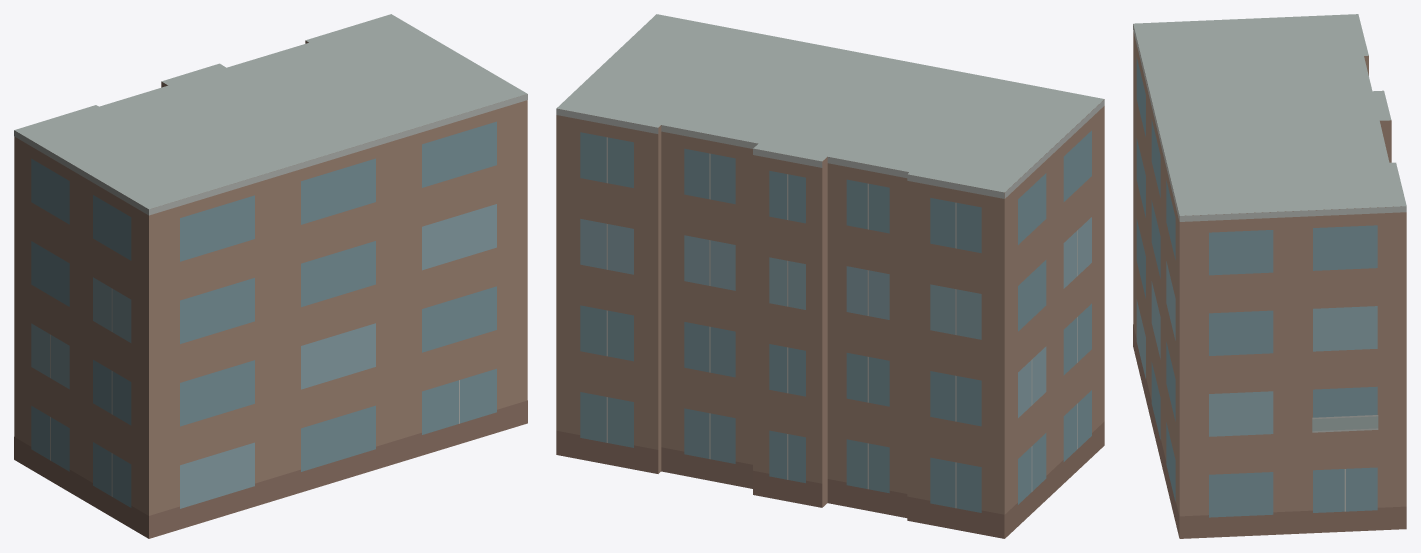
The model's file is survey-upis-32654028.glb.
The picture shows the model from 3 angles, left to right: view 1: azimuth 30°, elevation 25°; view 2: azimuth 150°, elevation 25°; view 3: azimuth 270°, elevation 25°; orthographic projection. The views are drawn at different scales.
Visible parts, largest first — view 1: survey-upis-32654028.tmp; view 2: survey-upis-32654028.tmp; view 3: survey-upis-32654028.tmp.
Boxes of the visible parts, <box> form: survey-upis-32654028.tmp: <box>14,14,527,538</box>; survey-upis-32654028.tmp: <box>556,14,1104,538</box>; survey-upis-32654028.tmp: <box>1133,14,1406,538</box>.
Size of the model in its own units: 17.52 by 13.05 by 10.03.
